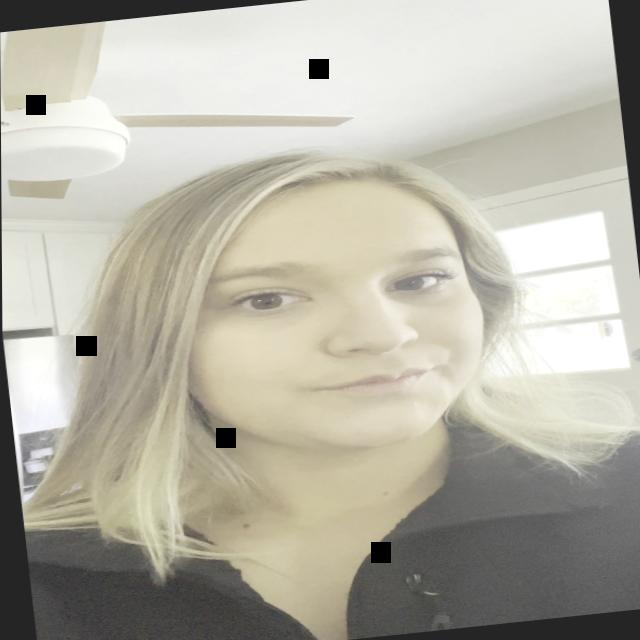NO-Mask: (90, 150, 520, 507)
